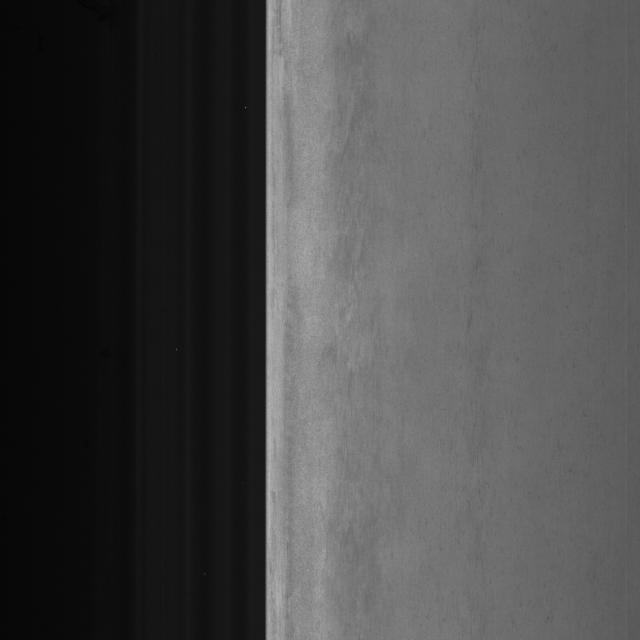inclusion: (322, 145, 402, 524)
